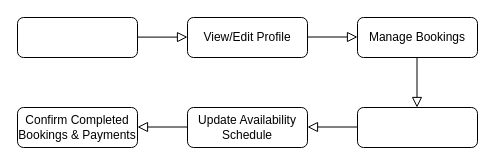
Some shapes in this 495 by 165 pixel diagram are drawn without their labels. Here are the shapes that lost their labels. From the top down, the centre of each, then its label:
At point 77,37: "Login/Sign-up".
At point 417,127: "Check Reviews & Feedback".
